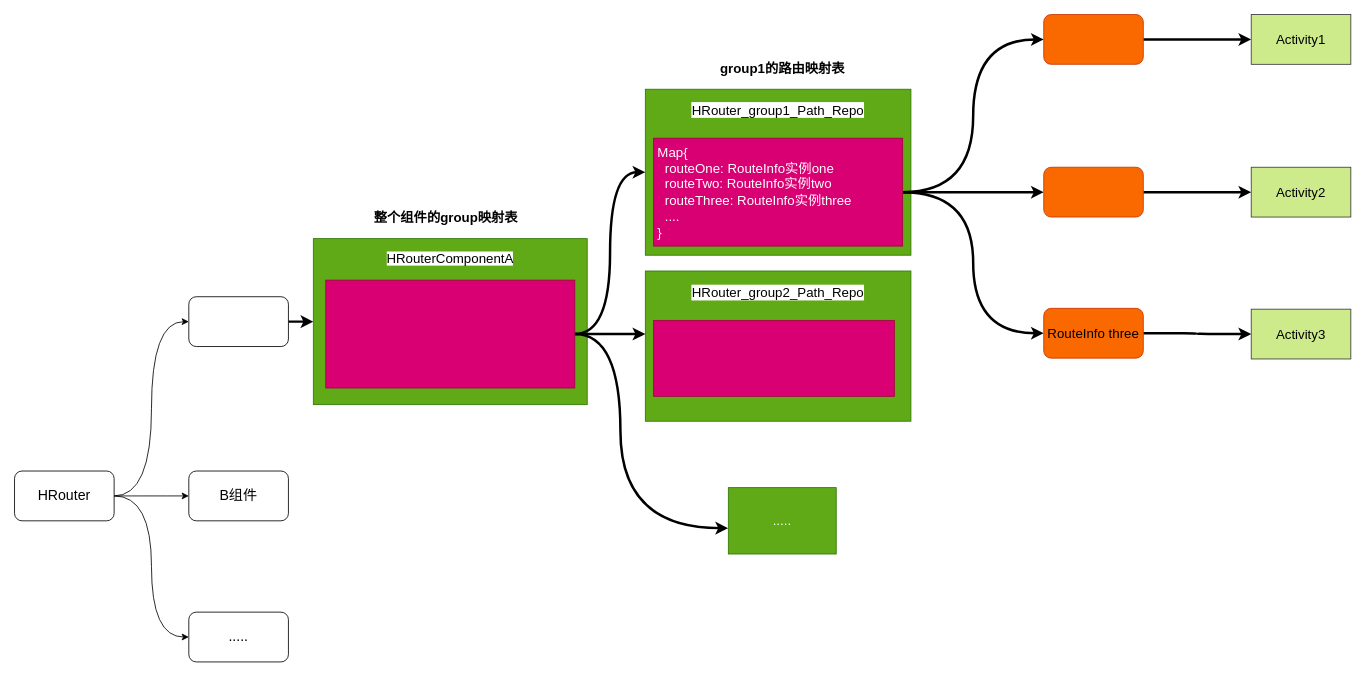
Some shapes in this 1365 by 676 pixel diagram are drawn without their labels. The centre of each missing label's shape, as x and y in pixels:
"A 组件" belongs at (x=238, y=321).
"Map{ .... }" belongs at (x=773, y=358).
"Map{ group1: HRouter_group1_Path_Repo group2: HRouter_group2_Path_Repo .... }" belongs at (x=450, y=333).
"RouteInfo one" belongs at (x=1093, y=39).
"RouteInfo two" belongs at (x=1093, y=191).
